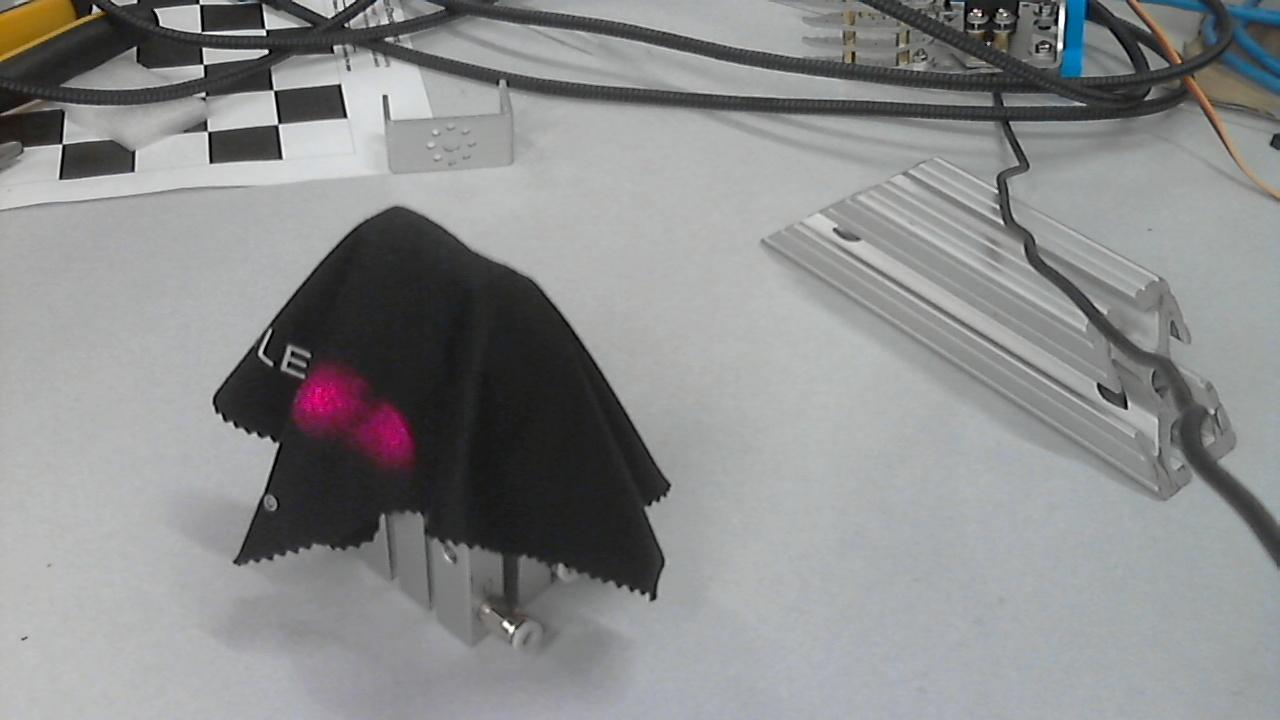Object microfiber cleaning cloth - Material fabric - Color black - Pdfname drQGv: (288, 351, 420, 473)
